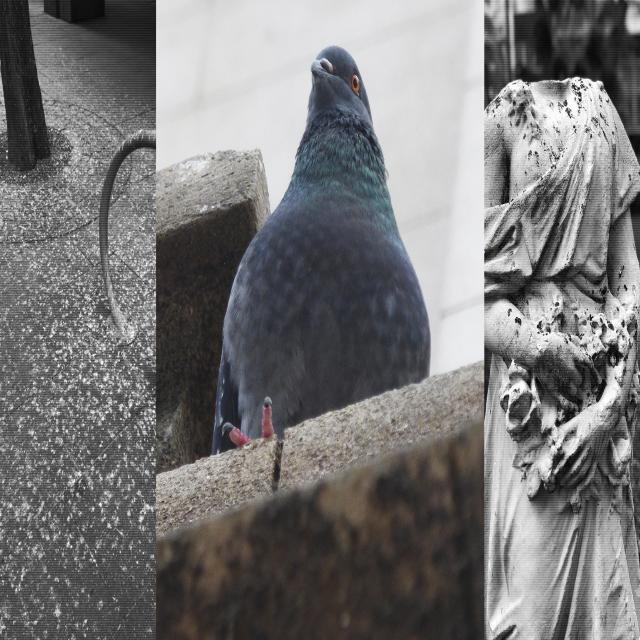bird: (182, 6, 446, 492)
